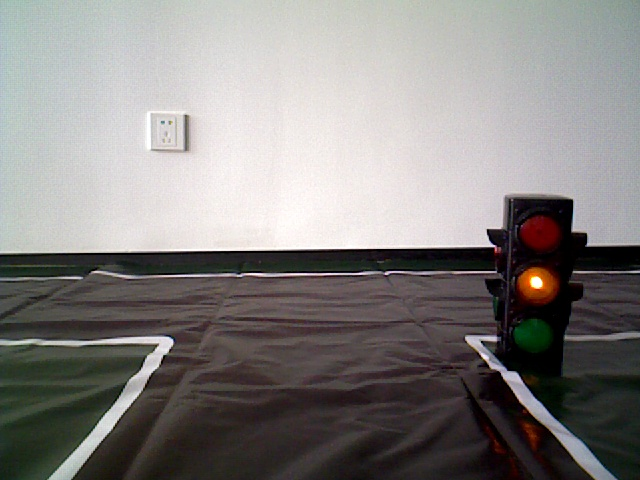yellow: (503, 193, 578, 371)
